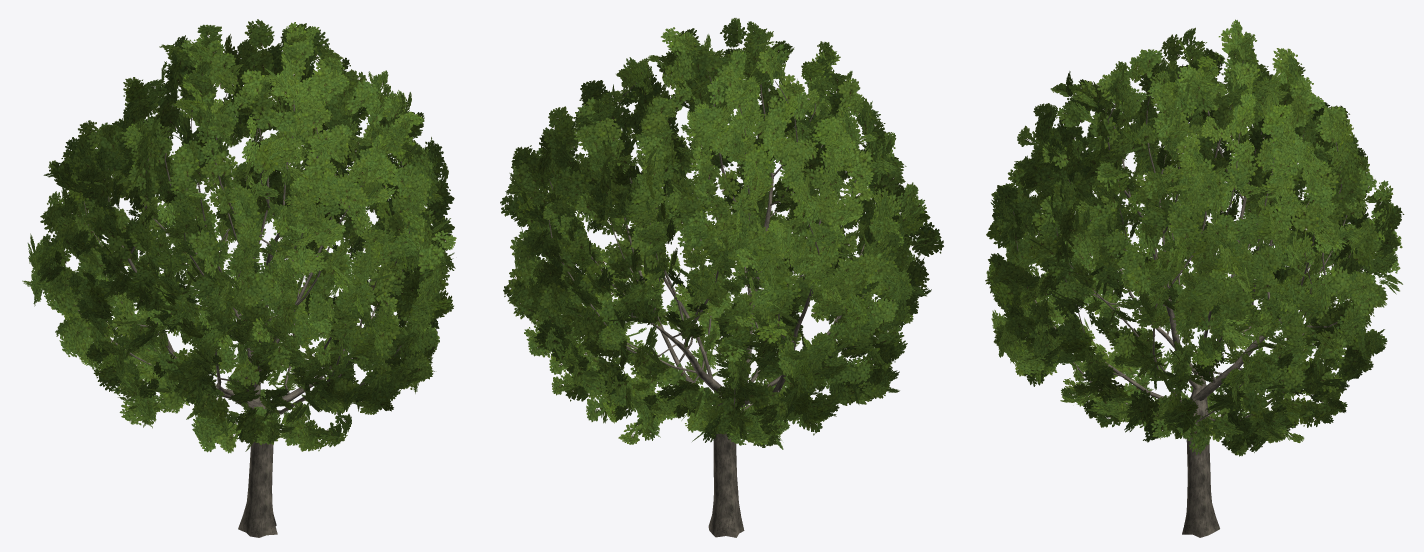
File: arbre_feuillu_rond_lod0.glb
3 renders of one model, left to right at view 1: azimuth 30°, elevation 25°; view 2: azimuth 150°, elevation 25°; view 3: azimuth 270°, elevation 25°, orthographic.
Visible parts, largest first — view 1: arbre_feuillu_rond_lod0; view 2: arbre_feuillu_rond_lod0; view 3: arbre_feuillu_rond_lod0.
Boxes of the visible parts, x1,y1,x2,y2 form: arbre_feuillu_rond_lod0: (22, 19, 456, 537); arbre_feuillu_rond_lod0: (500, 18, 943, 537); arbre_feuillu_rond_lod0: (985, 19, 1404, 537).
Size of the model in its own units: 9.4 by 11.23 by 8.9.
2 materials, 2 textured.
